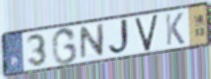3: (25, 32, 49, 67)
G: (51, 26, 79, 66)
J: (107, 17, 133, 57)
K: (164, 11, 186, 47)
N: (79, 22, 106, 62)
V: (134, 13, 160, 53)
